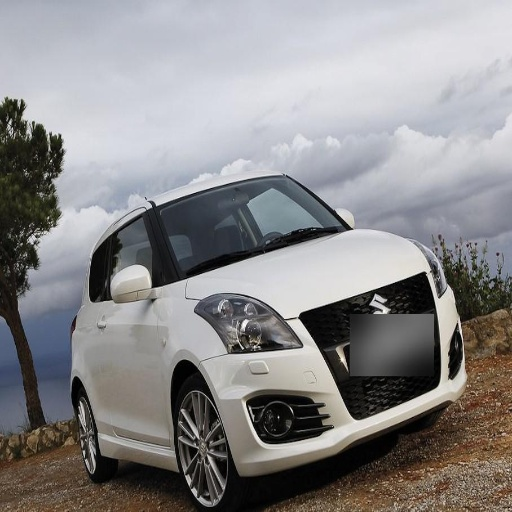front_bumper: (209, 272, 463, 472)
front_glass: (163, 178, 349, 269)
front_right_door: (102, 221, 165, 442)
front_right_light: (196, 293, 300, 350)
